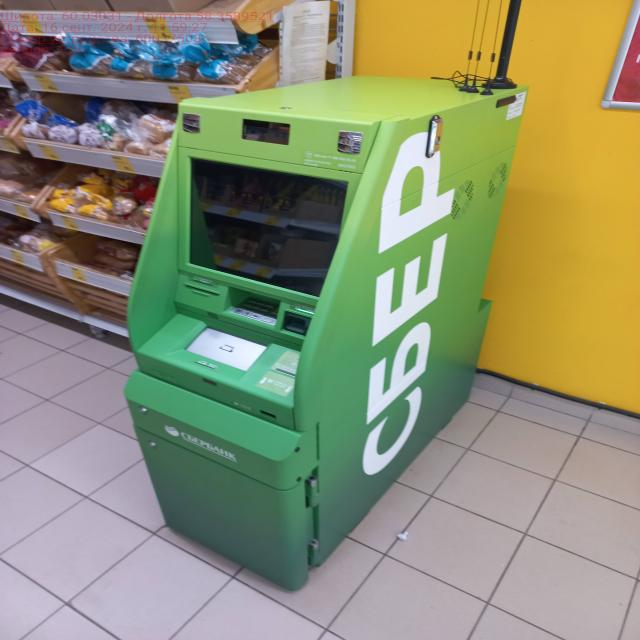bank: (120, 72, 522, 589)
